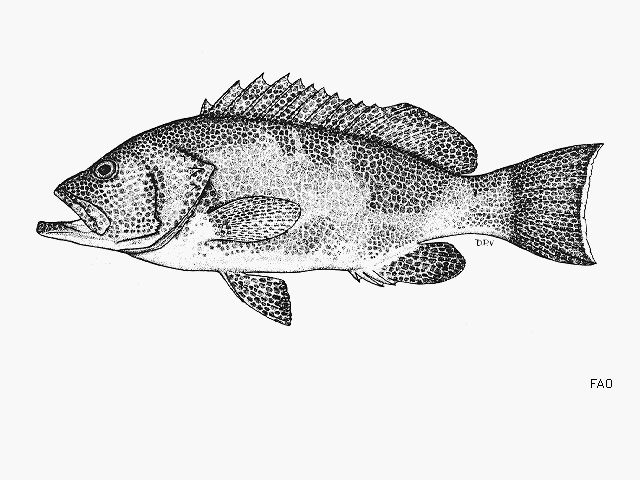fish: (36, 73, 604, 326)
